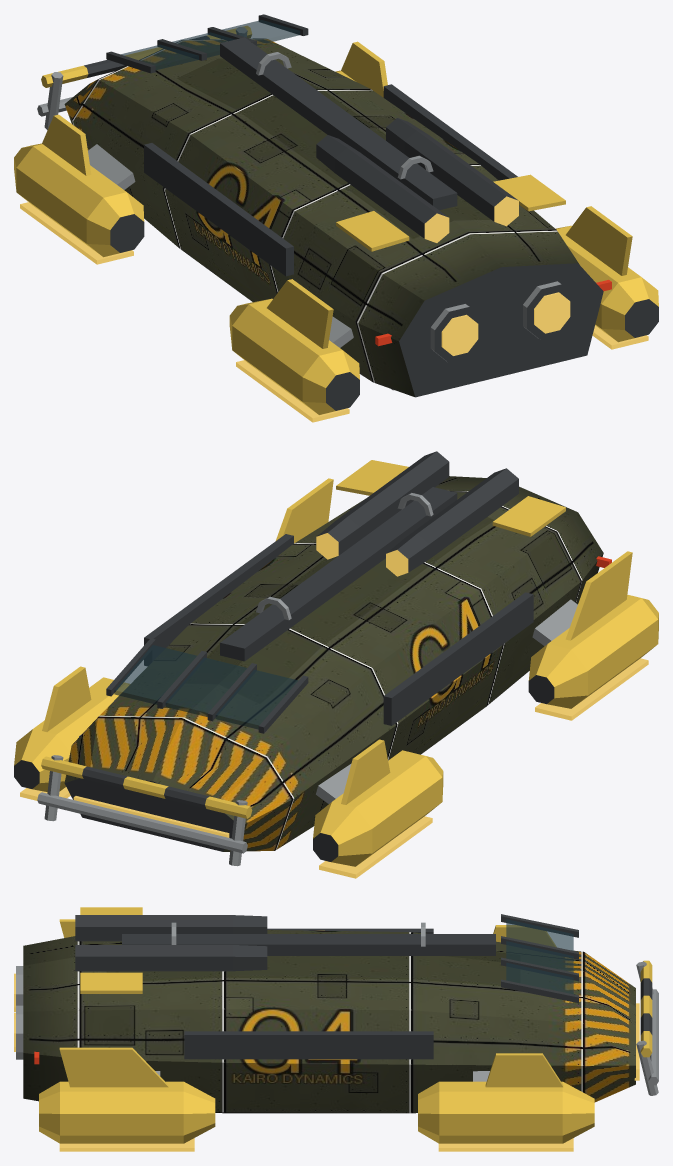
Rendered from bulwark.glb.
3 renders of one model, top to bottom at view 1: azimuth 30°, elevation 25°; view 2: azimuth 150°, elevation 25°; view 3: azimuth 270°, elevation 25°, orthographic. The views are drawn at different scales.
Parts seen in each view (by area): view 1: body_static, elevon_L_body, elevon_R_body, airbrake_L_body, steering_fin_L_body, steering_fin_R_body, airbrake_R_body; view 2: body_static, elevon_L_body, elevon_R_body, steering_fin_R_body, steering_fin_L_body, airbrake_L_body, airbrake_R_body; view 3: body_static, elevon_R_body, steering_fin_R_body, airbrake_R_body, steering_fin_L_body, airbrake_L_body.
Part boxes in pixels (bbox=[...]): body_static: bbox=[14, 14, 658, 422]; elevon_L_body: bbox=[267, 279, 333, 348]; elevon_R_body: bbox=[566, 206, 632, 275]; airbrake_L_body: bbox=[336, 211, 409, 251]; steering_fin_L_body: bbox=[42, 114, 91, 175]; steering_fin_R_body: bbox=[341, 41, 387, 97]; airbrake_R_body: bbox=[493, 174, 565, 211]; body_static: bbox=[14, 451, 658, 878]; elevon_L_body: bbox=[565, 551, 632, 640]; elevon_R_body: bbox=[276, 478, 333, 543]; steering_fin_R_body: bbox=[42, 666, 91, 731]; steering_fin_L_body: bbox=[341, 739, 390, 804]; airbrake_L_body: bbox=[492, 496, 565, 536]; airbrake_R_body: bbox=[336, 460, 408, 495]; body_static: bbox=[14, 914, 658, 1151]; elevon_R_body: bbox=[59, 1047, 168, 1087]; steering_fin_R_body: bbox=[485, 1053, 563, 1087]; airbrake_R_body: bbox=[80, 972, 142, 993]; steering_fin_L_body: bbox=[493, 925, 556, 946]; airbrake_L_body: bbox=[80, 907, 142, 914].
Size of the model in its own units: 3.47 by 1.64 by 6.21.
Materials: 10 (2 with a texture image).
